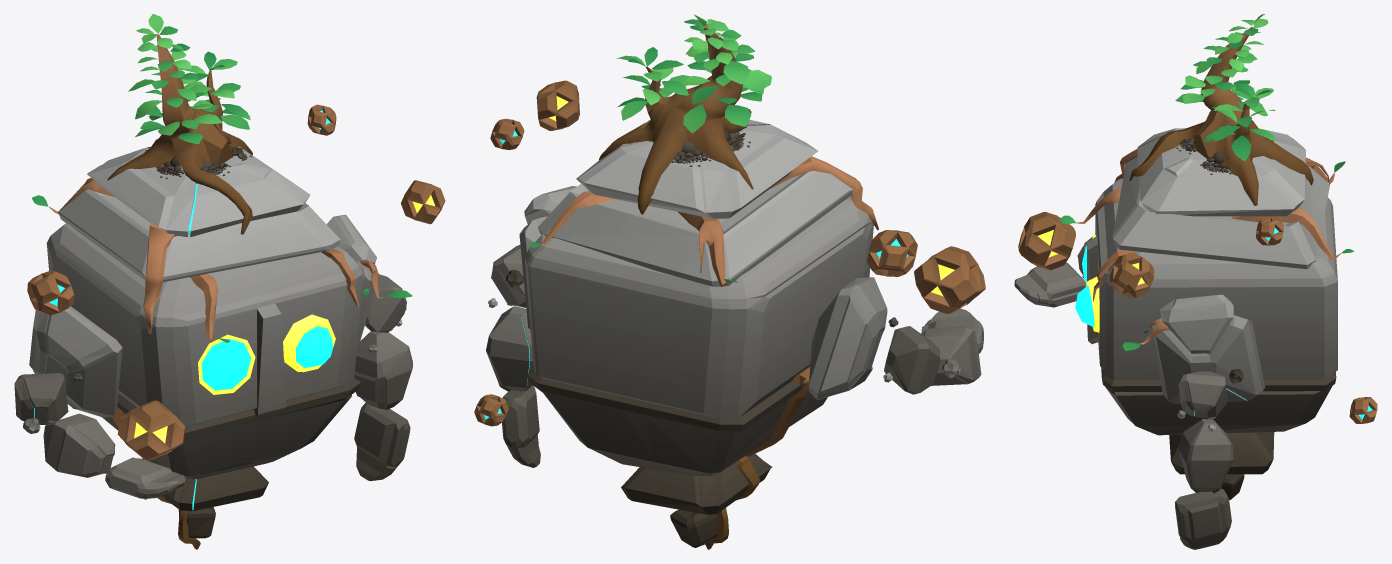
3 renders of one model, left to right at view 1: azimuth 30°, elevation 25°; view 2: azimuth 150°, elevation 25°; view 3: azimuth 270°, elevation 25°, orthographic. The views are drawn at different scales.
Parts seen in each view (by area): view 1: Bot_Material #2_0; view 2: Bot_Material #2_0; view 3: Bot_Material #2_0.
Boxes of the visible parts, box(x1,y1,x2,y2) form: Bot_Material #2_0: box(14, 14, 445, 549); Bot_Material #2_0: box(474, 14, 985, 549); Bot_Material #2_0: box(1014, 14, 1377, 549).
Bounding box in the file's own units: 1.58 × 1.92 × 1.31.
Materials: 1 (1 with a texture image).
